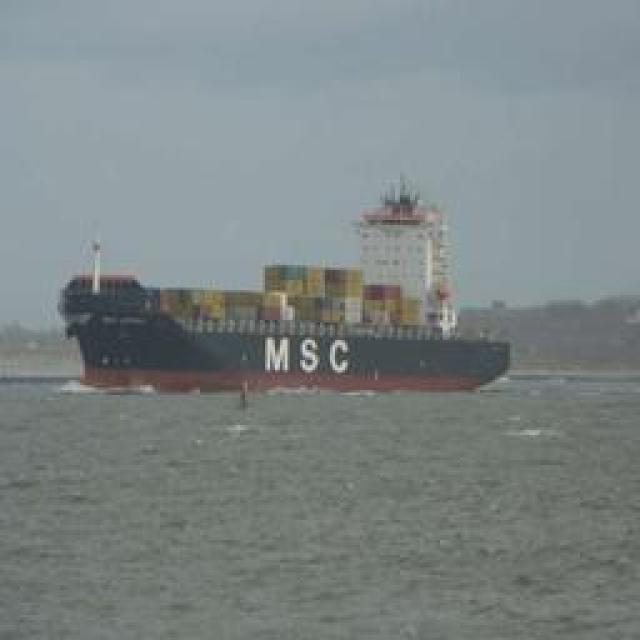ship2: (55, 174, 510, 397)
